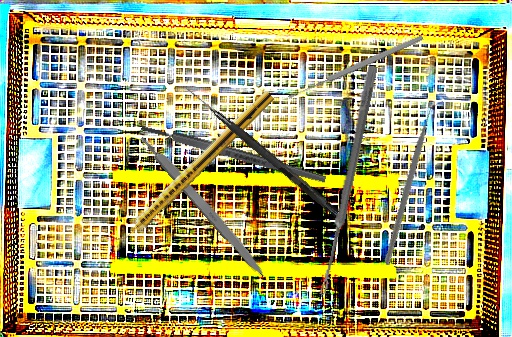Chopper: (346, 100, 483, 266)
Handpiece: (112, 86, 276, 250)
Hook Surgical: (181, 85, 342, 217)
Scalpel Handle: (138, 131, 270, 280), (140, 121, 327, 186)
Surgical Spoon: (318, 64, 378, 297), (286, 33, 425, 101)
